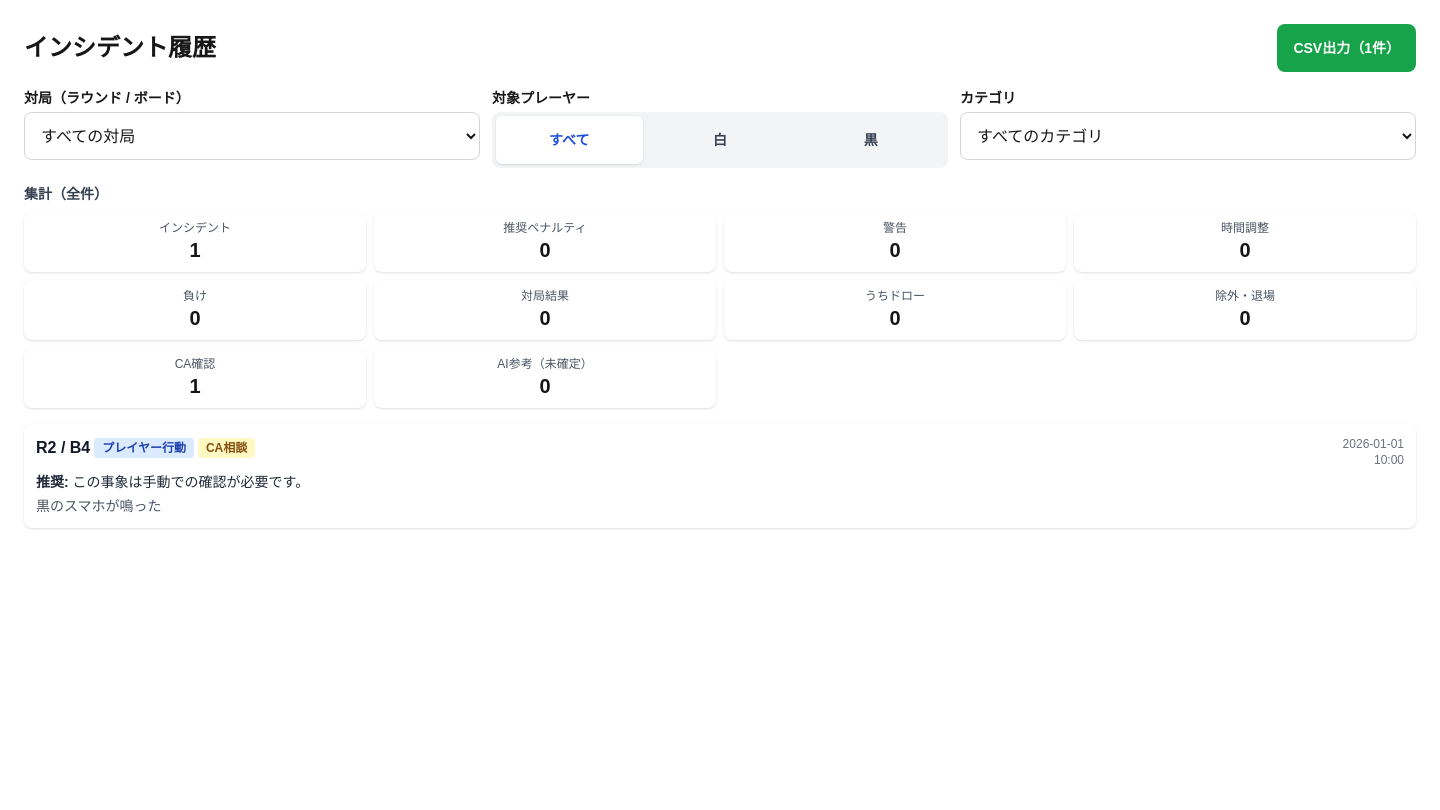
Test: IncidentLogView: AI reference from the incident log (D13) › closing the dialog discards the pending payload; reopening asks again
Click the button that starts with "R2 / B4" at (63, 448), box [24, 424, 1416, 528]
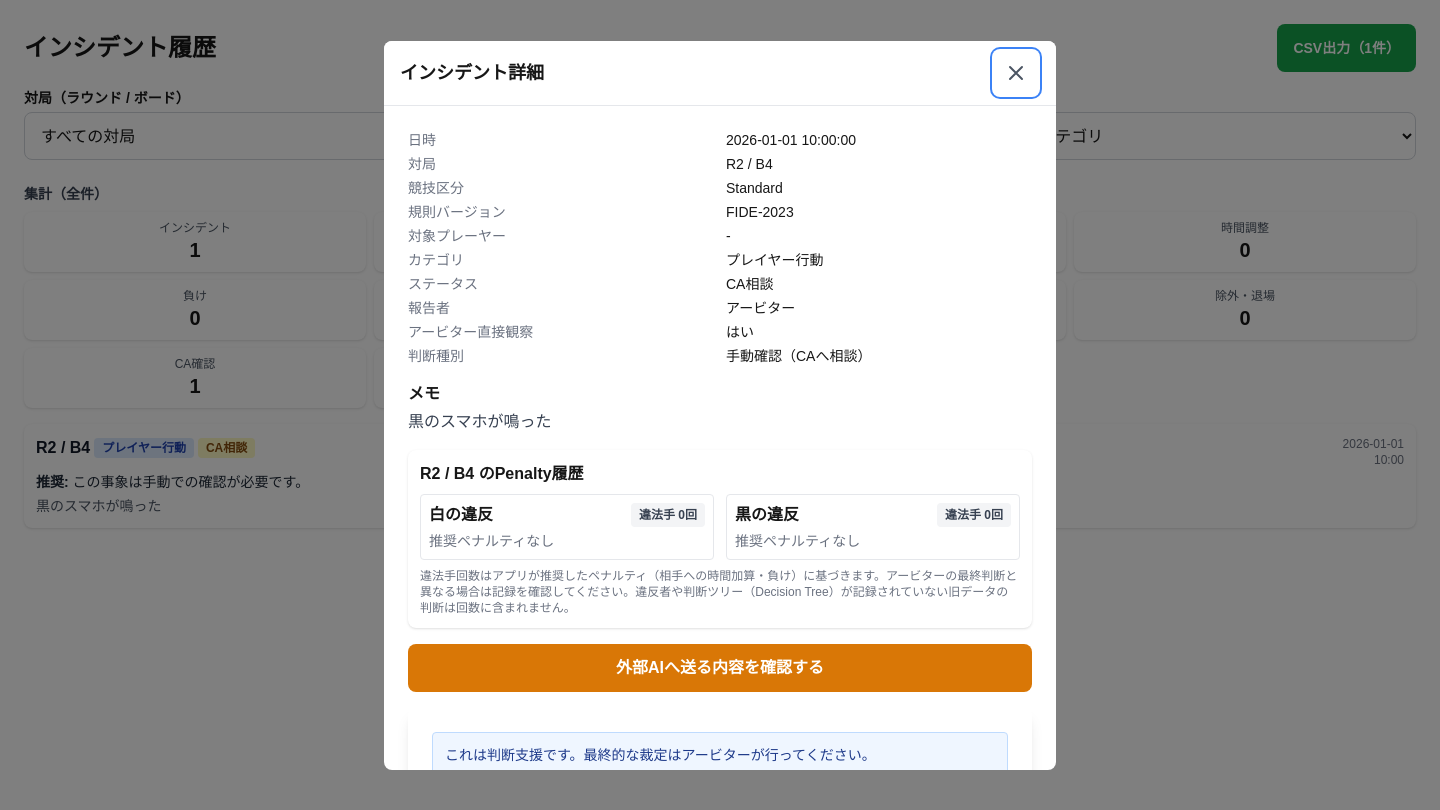
Click the button "外部AIへ送る内容を確認する" at (720, 668), box [408, 644, 1032, 692]
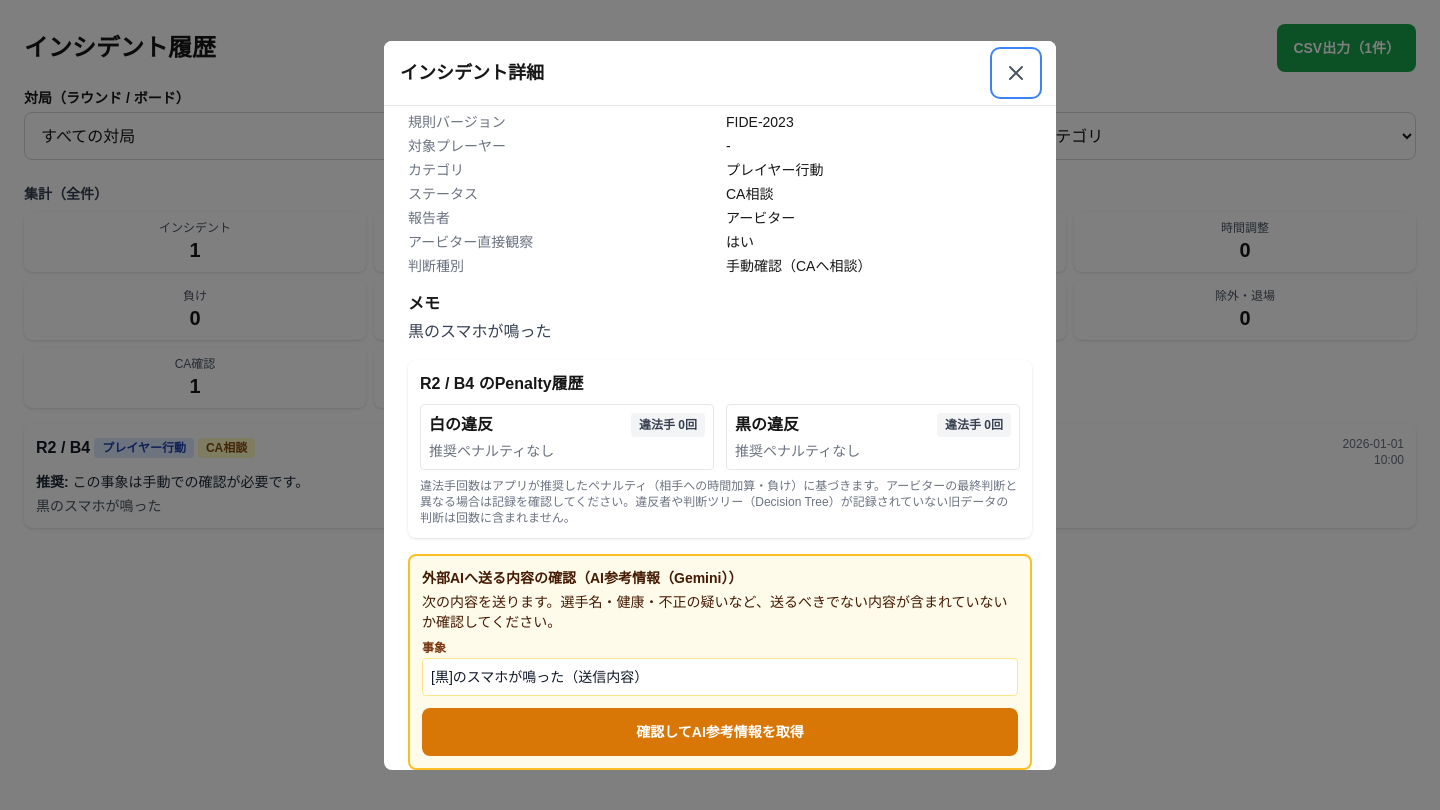
Expected: the element "外部AIへ送る内容の確認" is shown, [408, 554, 1032, 770]
Press Escape in the dialog, box [384, 40, 1056, 770]
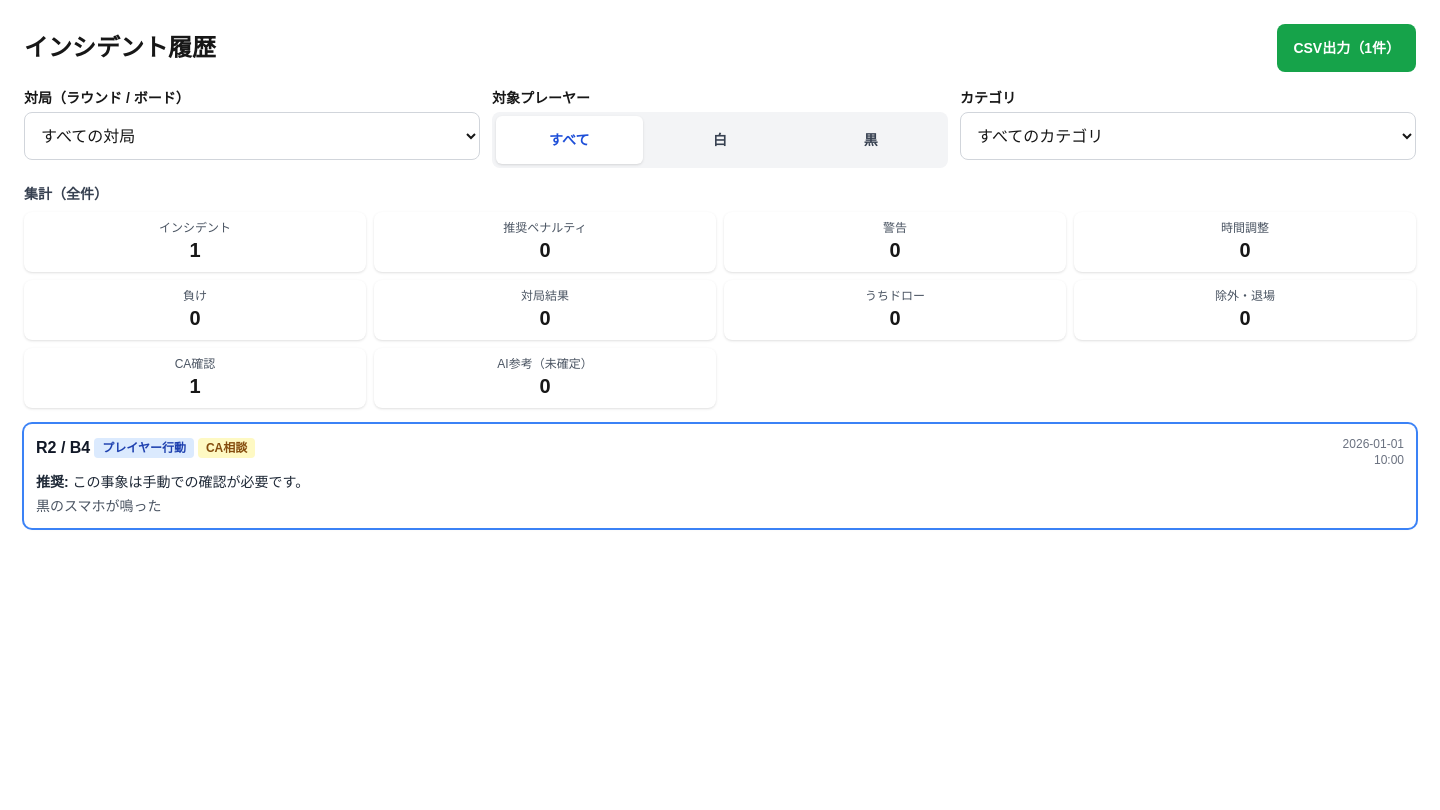
Expected: the dialog is gone
Click the button that starts with "R2 / B4" at (63, 448), box [24, 424, 1416, 528]
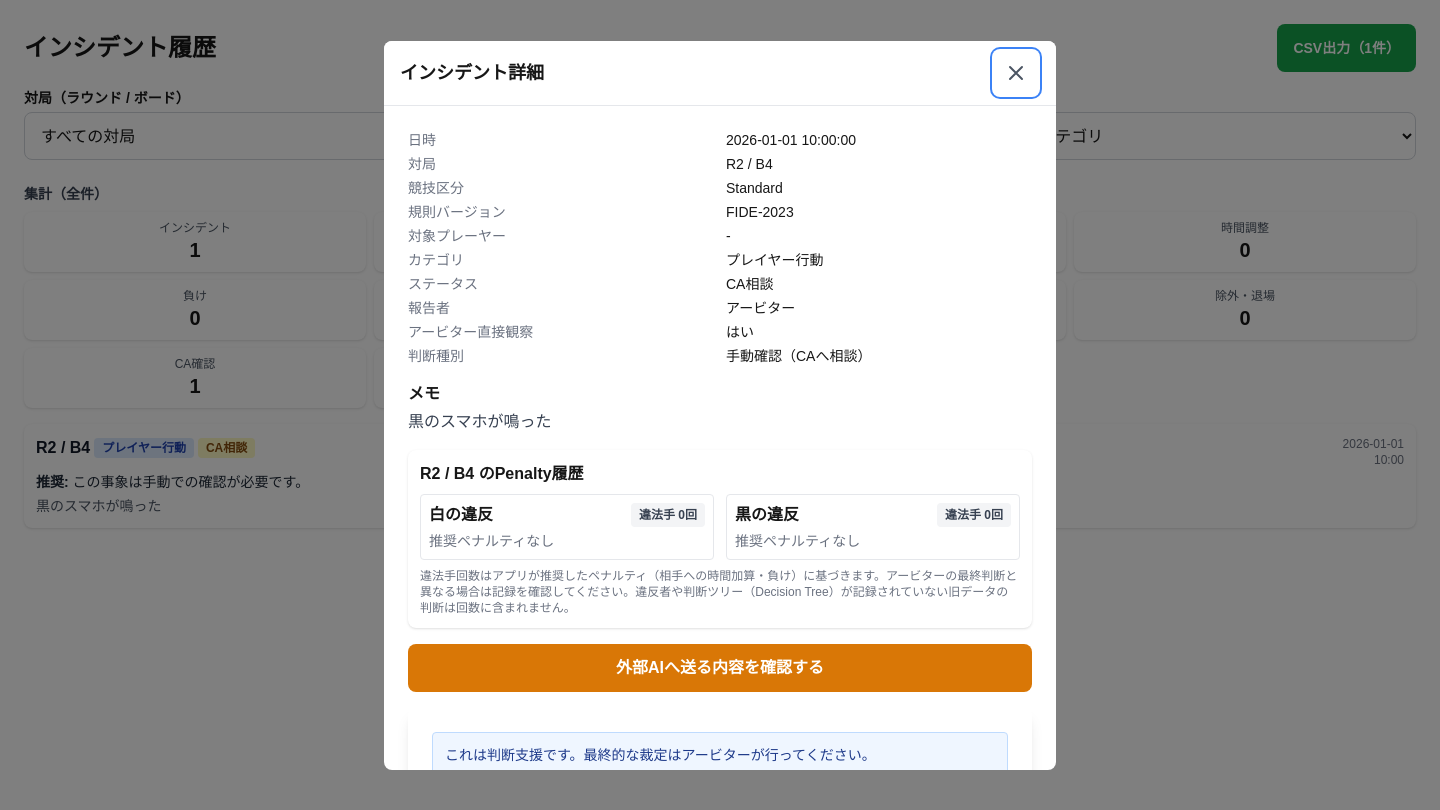
Expected: the text "外部AIへ送る内容の確認" is not shown
Expected: the button "外部AIへ送る内容を確認する" is shown, [408, 644, 1032, 692]
